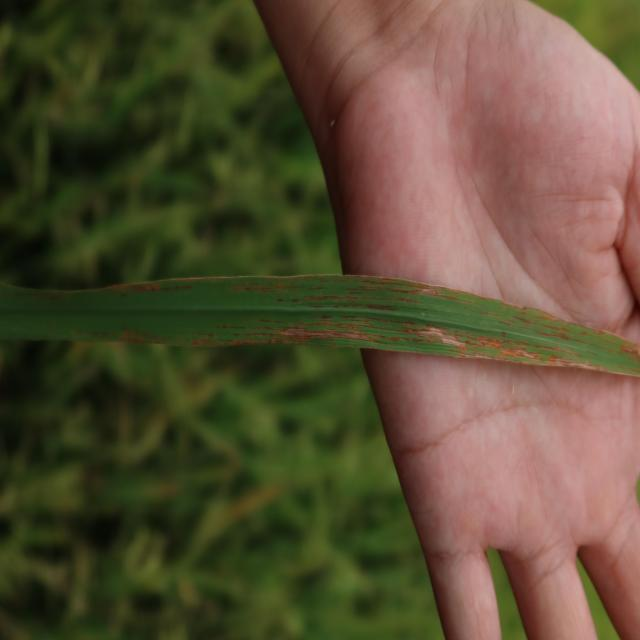Dom soc vi khuan: (480, 335, 552, 363), (414, 326, 468, 352), (278, 326, 335, 342), (547, 357, 603, 370), (341, 329, 370, 342), (421, 283, 440, 296)
